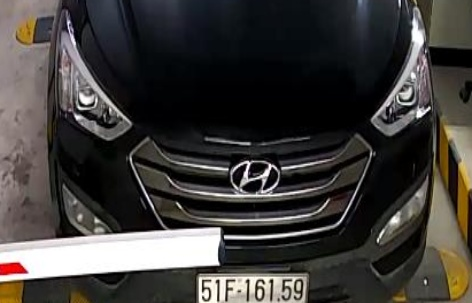plate: (189, 266, 316, 303)
